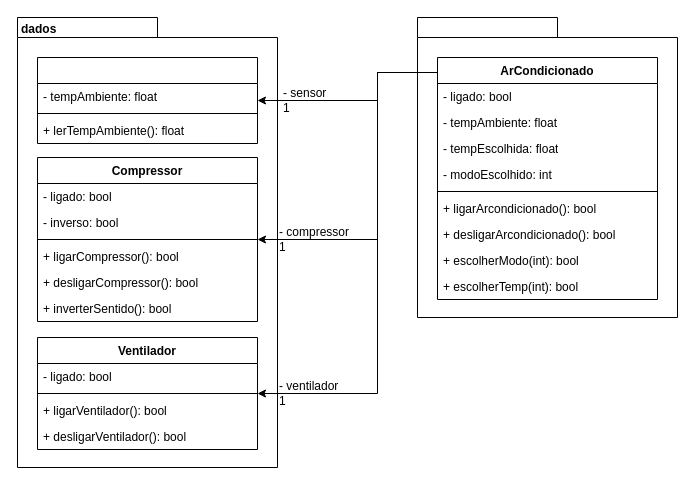
The diagram is 695 pixels wide and 485 high, and some of its shapes have lost their labels. Each missing label, with the box of its shape:
SensorTemperatura: (36, 56, 258, 144)
sistema: (416, 16, 678, 318)
